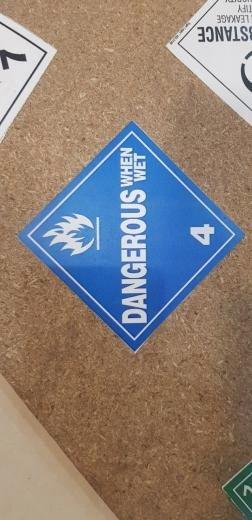dangerous-when-wet: (18, 121, 245, 350)
